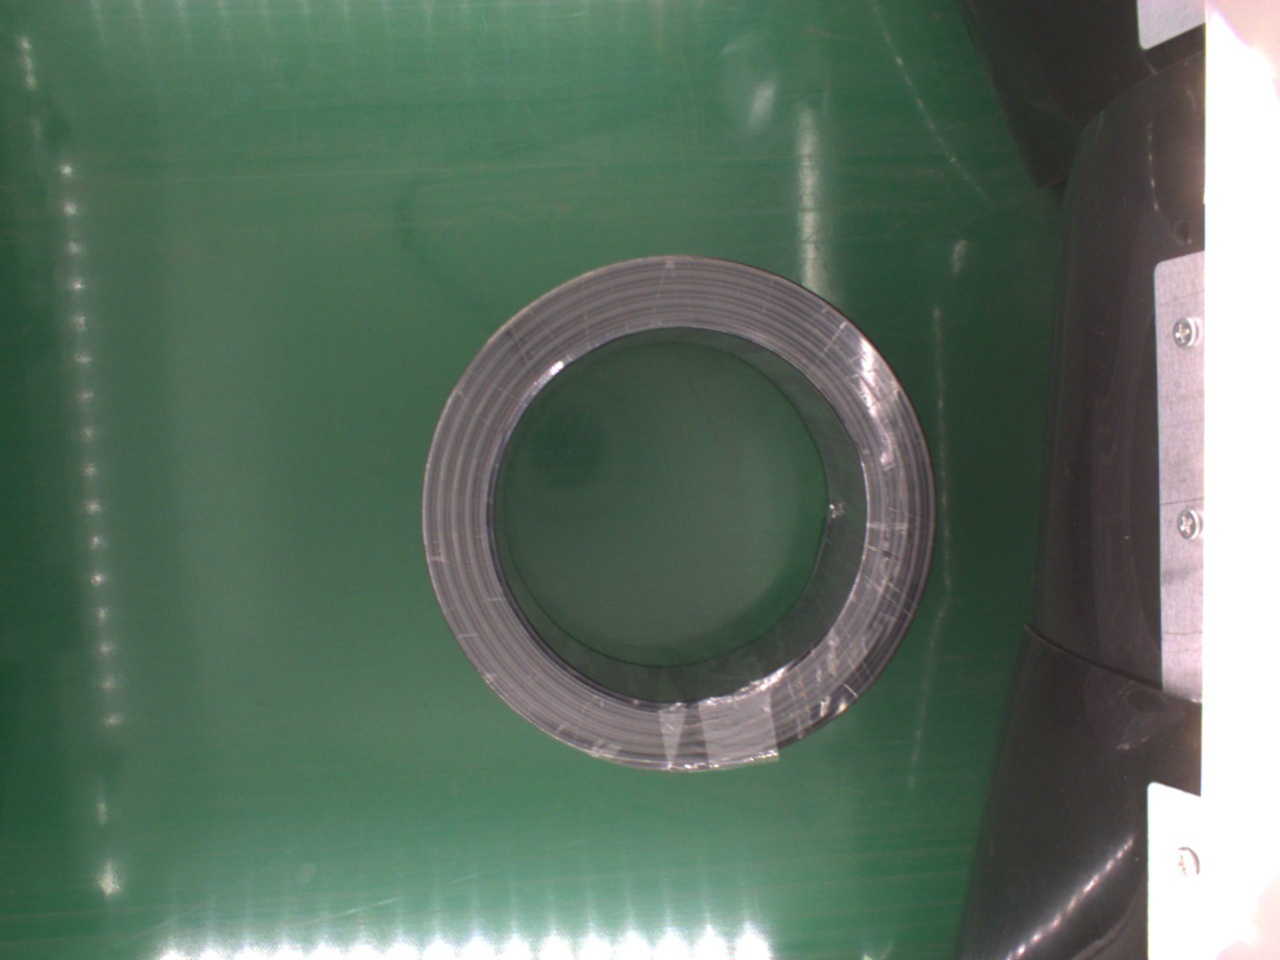black: (430, 254, 933, 773)
